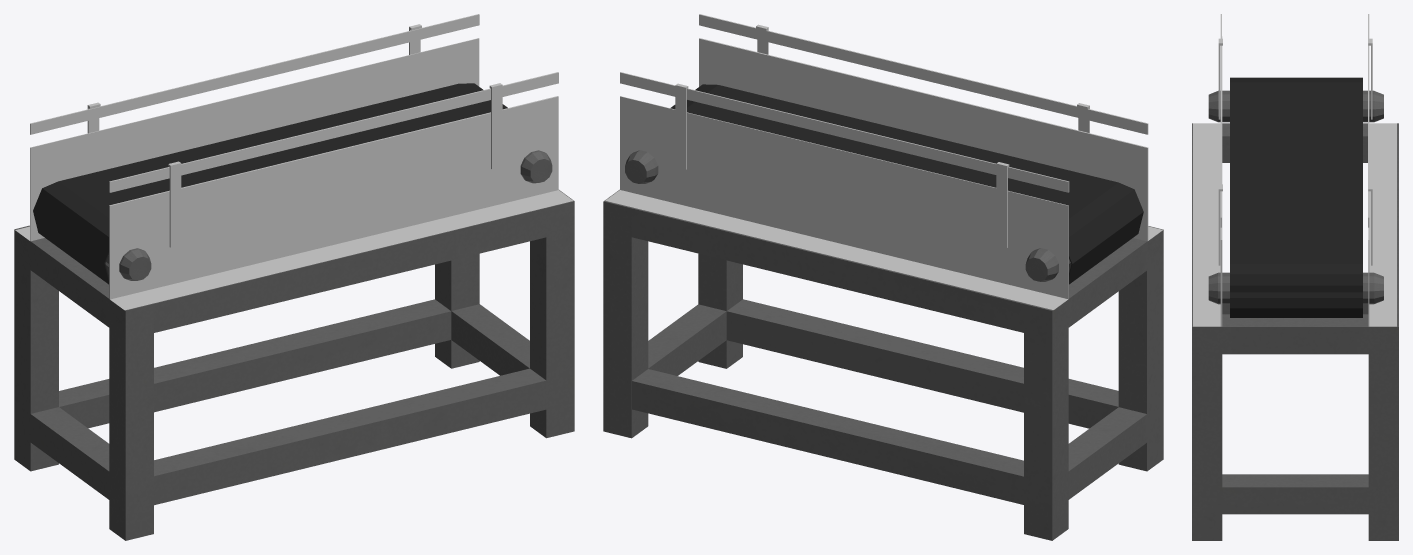
Rendered from SM_3D_ConveyerBelt3.fbx.
The picture shows the model from 3 angles, left to right: view 1: azimuth 30°, elevation 25°; view 2: azimuth 150°, elevation 25°; view 3: azimuth 270°, elevation 25°; orthographic projection. The views are drawn at different scales.
Visible parts, largest first — view 1: Plane.006, Plane.003, Plane.015, Cylinder.005, Cylinder.001, Cylinder.002; view 2: Plane.006, Plane.015, Plane.003, Cylinder.005, Cylinder.001, Cylinder.002; view 3: Cylinder.005, Plane.006, Plane.003, Plane.015, Cylinder.002, Cylinder.001.
Boxes of the visible parts, <box> form: Plane.006: <box>14,190,574,540</box>; Plane.003: <box>109,72,573,310</box>; Plane.015: <box>15,14,479,241</box>; Cylinder.005: <box>33,83,507,284</box>; Cylinder.001: <box>105,248,151,280</box>; Cylinder.002: <box>520,150,552,183</box>; Plane.006: <box>603,189,1163,540</box>; Plane.015: <box>605,72,1069,309</box>; Plane.003: <box>699,14,1162,241</box>; Cylinder.005: <box>670,84,1143,284</box>; Cylinder.001: <box>1025,248,1071,281</box>; Cylinder.002: <box>625,150,658,183</box>; Cylinder.005: <box>1230,77,1362,317</box>; Plane.006: <box>1192,123,1398,540</box>; Plane.003: <box>1193,14,1222,326</box>; Plane.015: <box>1368,14,1396,326</box>; Cylinder.002: <box>1208,272,1383,304</box>; Cylinder.001: <box>1208,90,1383,122</box>.
Size of the model in its own units: 1464 by 1089 by 628.
